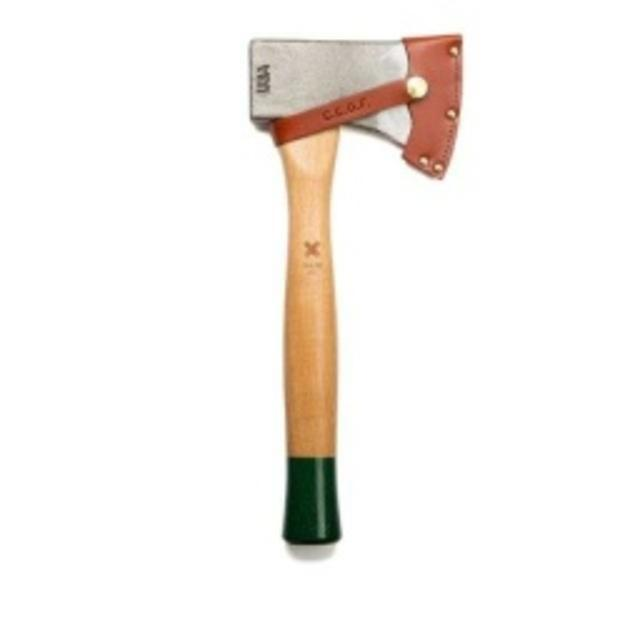ax: (239, 27, 476, 579)
